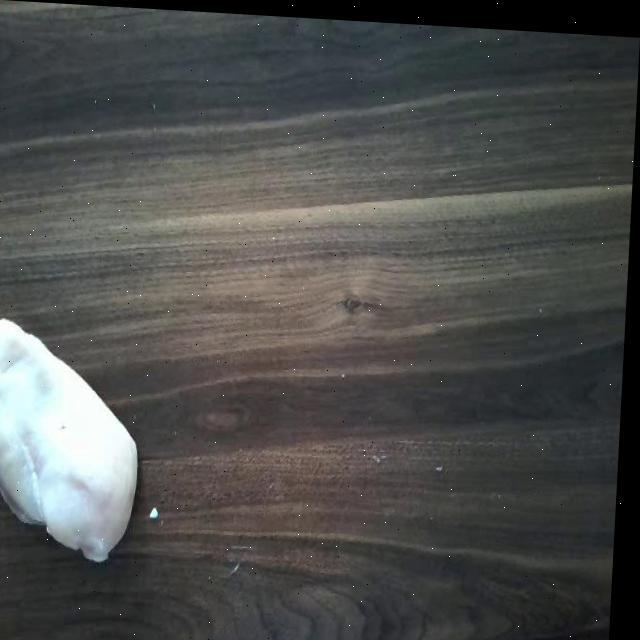breast: (0, 308, 155, 564)
